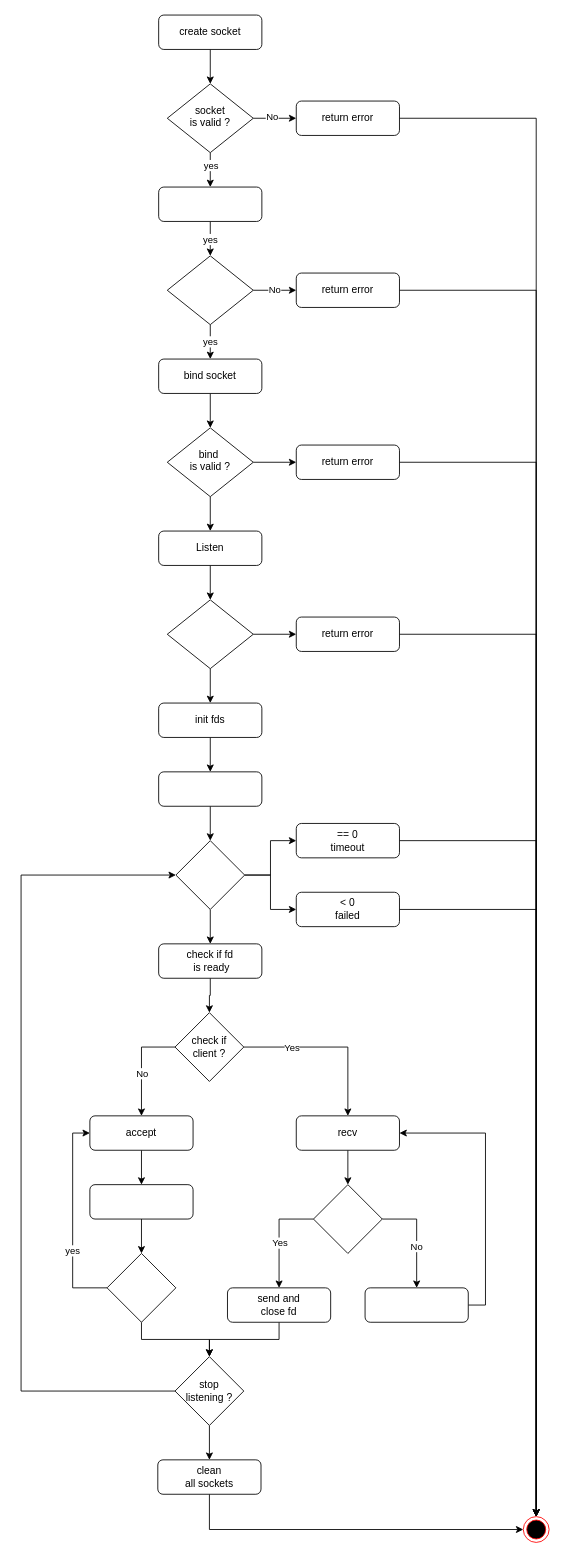
The diagram is 564 pixels wide and 1557 high, and some of its shapes have lost their labels. The shapes that lost their labels are listed below. From the top down, each one's centre as x and y in pixels, then its label:
(210,203): set flag as nonblocking
(209,290): nonblocking is valid ?
(209,634): listen is valid ?
(210,788): select
(210,874): check select
(141,1201): add new fd
(347,1218): eof ?
(141,1287): have a new fd ?
(416,1304): store data
